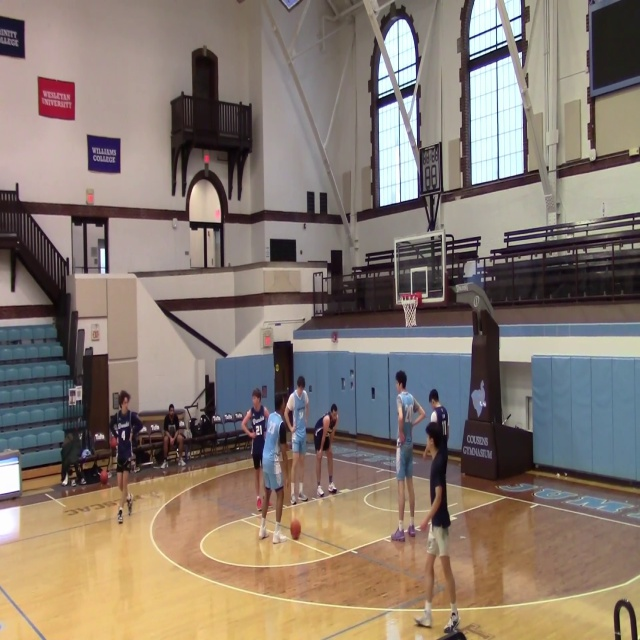Basketball: (290, 519, 301, 539), (99, 470, 108, 485), (109, 436, 117, 448)
